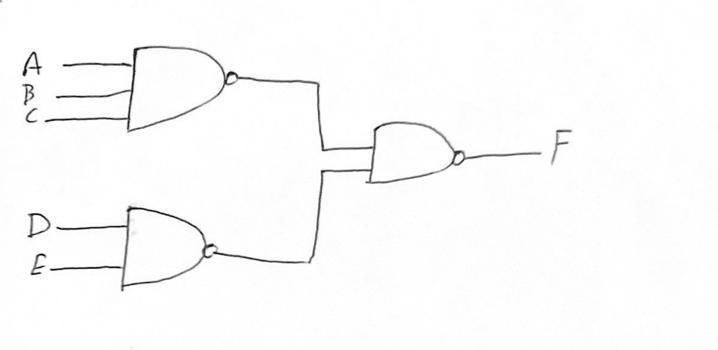NAND: (121, 31, 253, 139), (116, 195, 232, 304), (362, 116, 472, 202)
